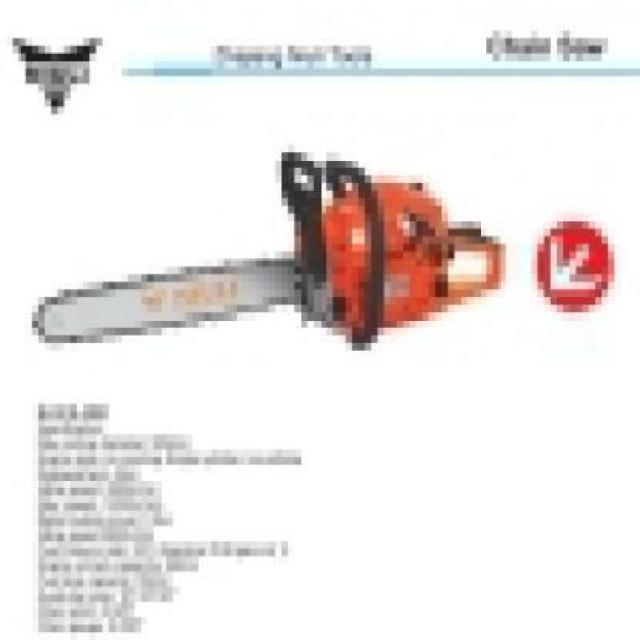Chainsaw: (29, 144, 502, 350)
